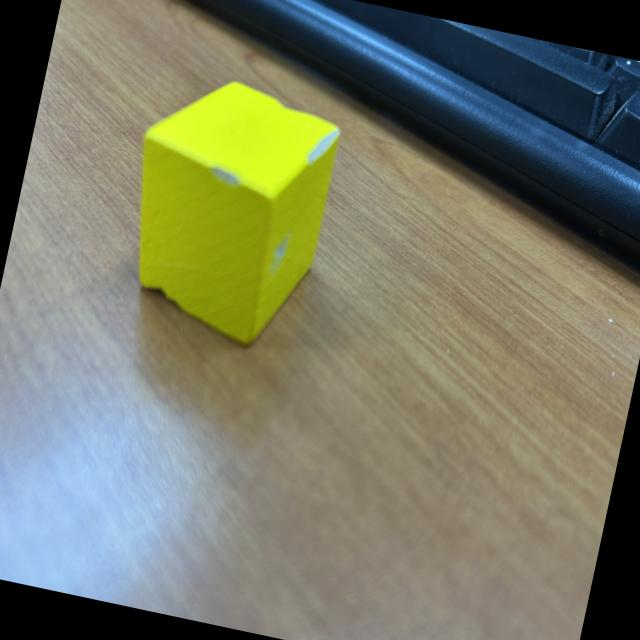broken: (105, 64, 348, 356)
